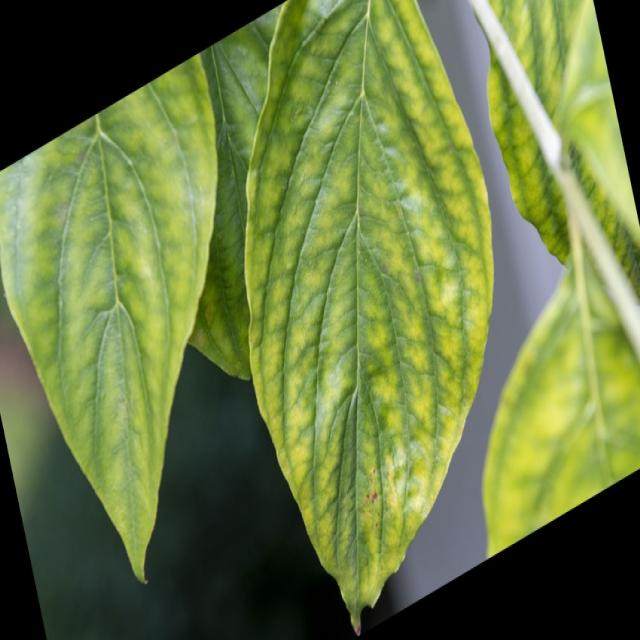Chlorosis: (18, 16, 640, 596)
